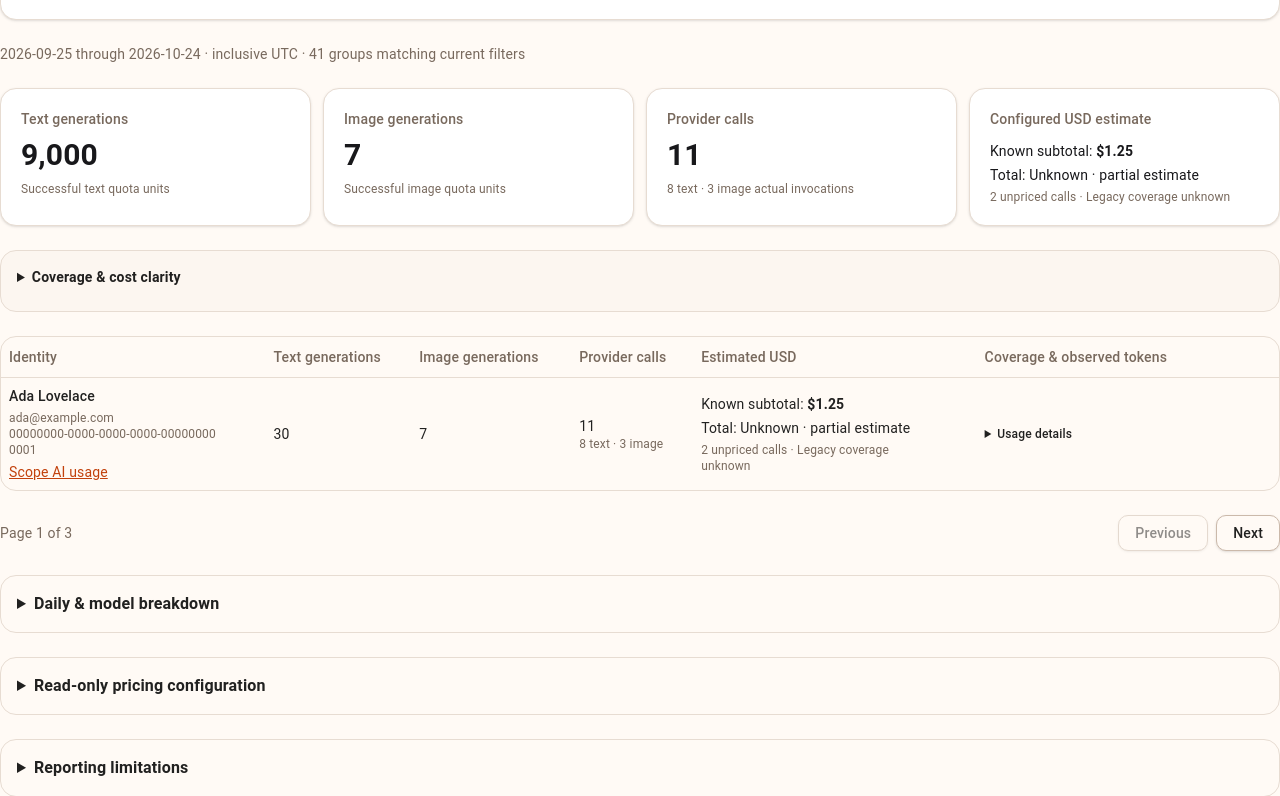
Scenario: AdminAIUsage › uses server pagination and resets to page one while immediately clearing stale summaries on search
The width and height of the screenshot is (1280, 796).
(page scrolled)
Click the button "Next".
click(1248, 532)  # box [1216,514,1279,550]
(page scrolled)
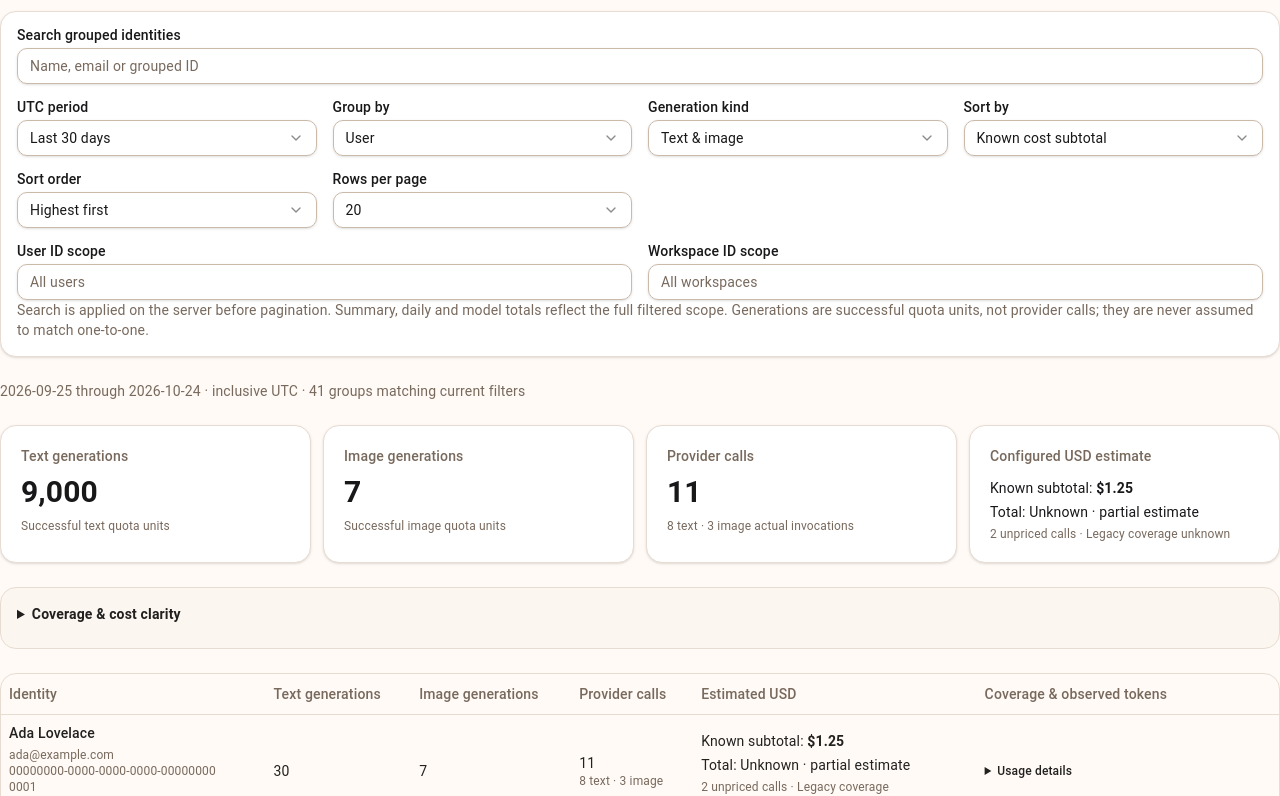
Type "Ada" into the field labelled "Search grouped identities".
click(640, 66); type("Ada")  # box [17,48,1263,84]
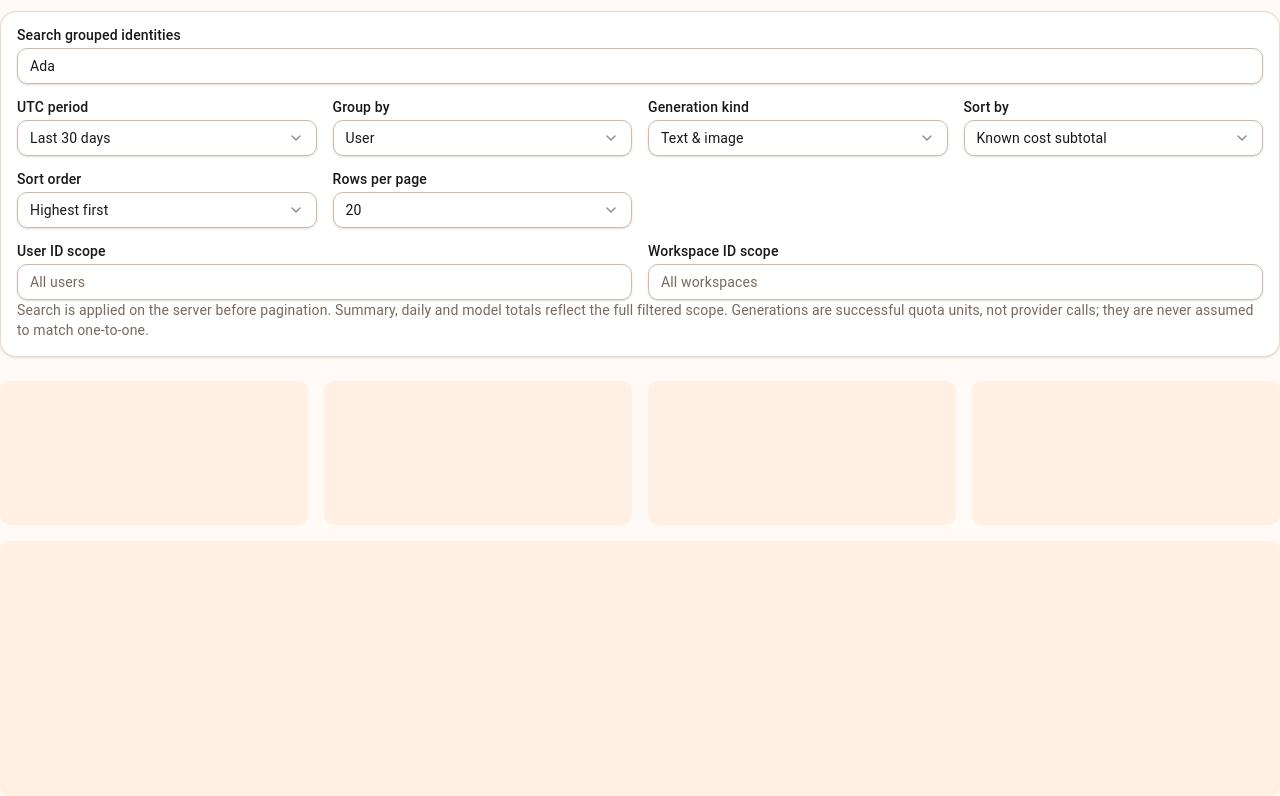
Replace the text in the field labelled "Search grouped identities" with "Ada [literal]" at (640, 66), box [17,48,1263,84]
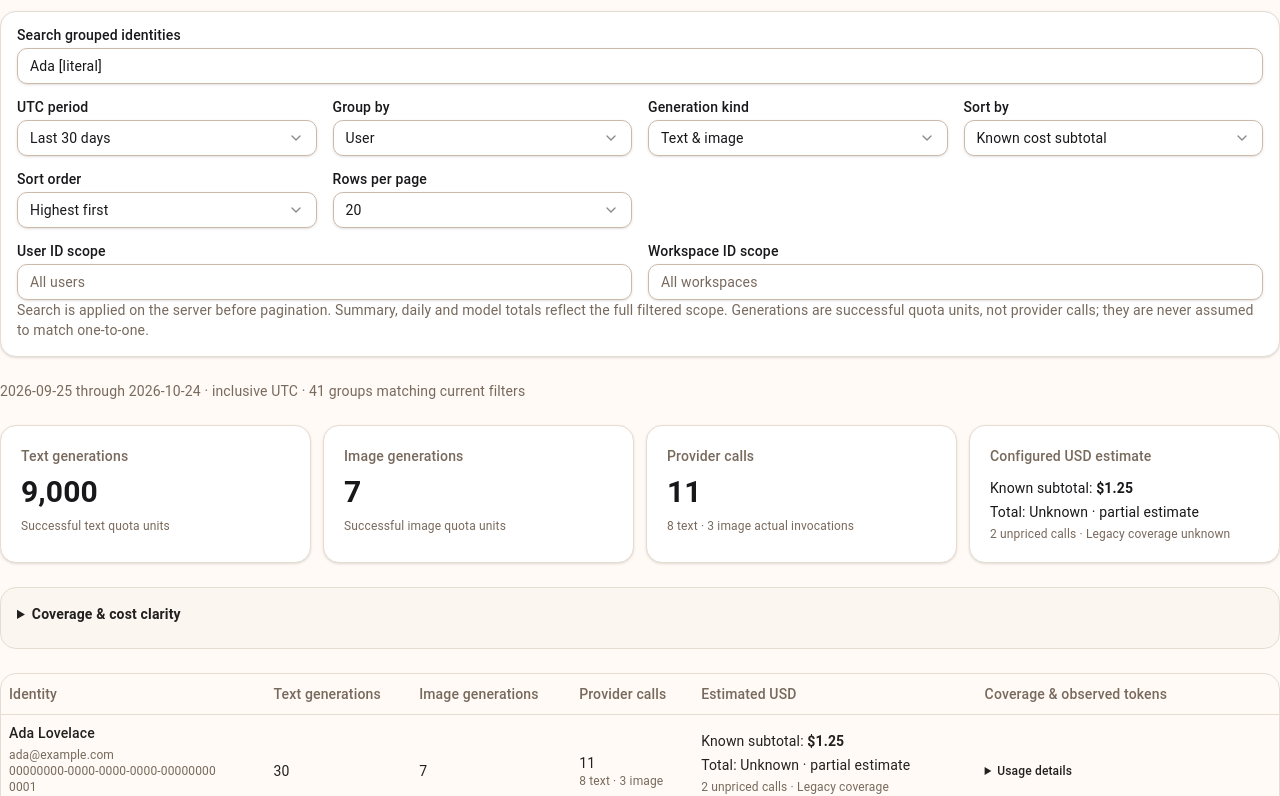
Result: the text "9,000" is shown at [21,474,98,509]
